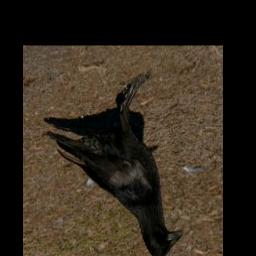Crow: (45, 73, 180, 256)
